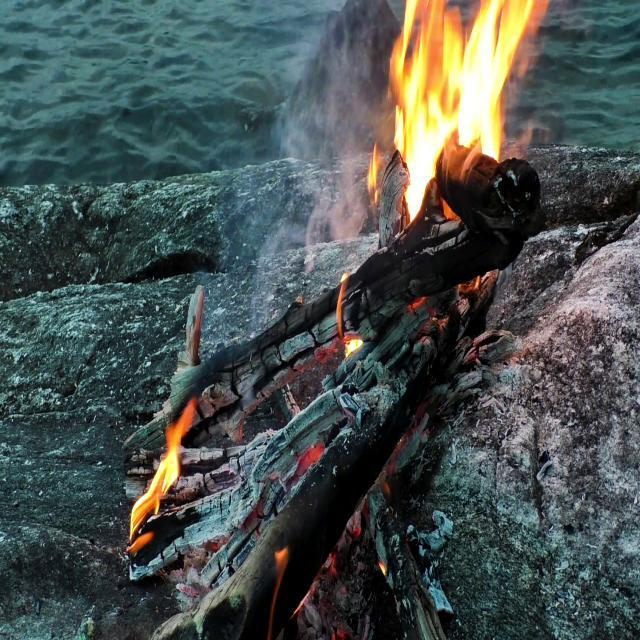Fire: (378, 0, 550, 228), (123, 396, 194, 537)
Smoke: (271, 26, 380, 306)
